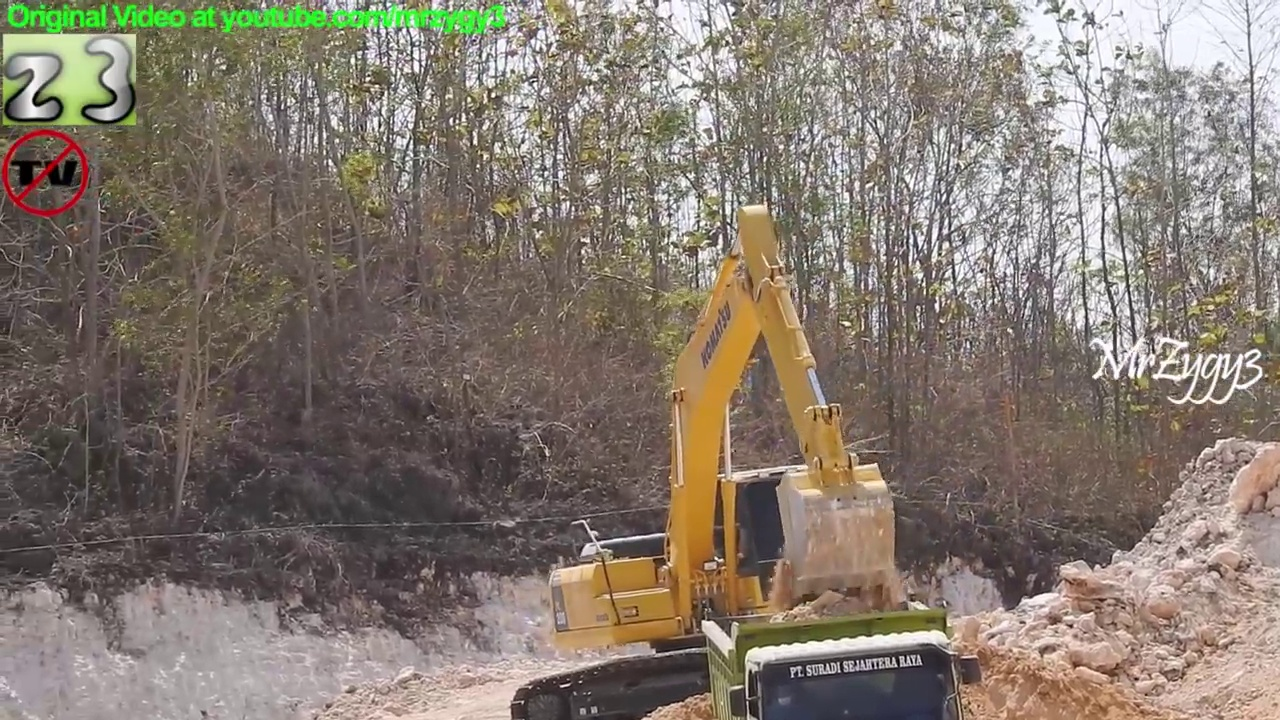excavator: (506, 199, 939, 720)
truck: (693, 595, 987, 720)
